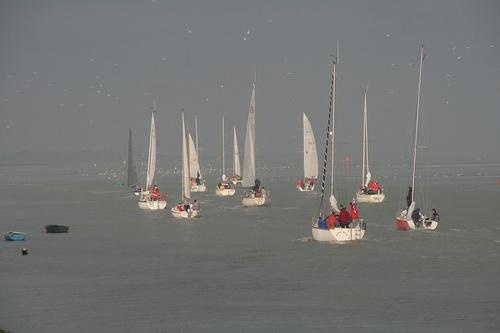boat: (309, 52, 372, 246), (394, 42, 445, 234), (242, 70, 275, 212), (353, 81, 390, 207), (171, 107, 206, 223), (137, 105, 171, 213), (294, 110, 324, 196), (214, 112, 239, 201), (187, 114, 210, 195), (230, 117, 245, 189), (4, 231, 29, 244), (43, 224, 71, 234)
